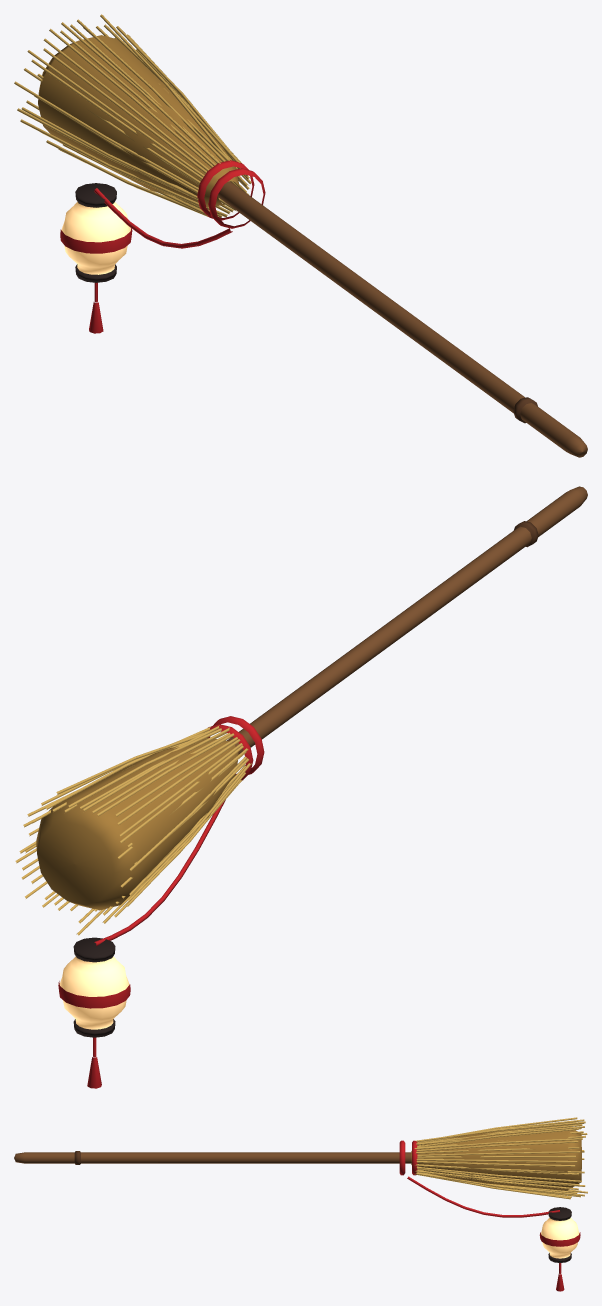
Rendered from prop_broom.glb.
3 renders of one model, top to bottom at view 1: azimuth 30°, elevation 25°; view 2: azimuth 150°, elevation 25°; view 3: azimuth 270°, elevation 25°, orthographic. The views are drawn at different scales.
Parts seen in each view (by area): view 1: prop_broom; view 2: prop_broom; view 3: prop_broom.
Part boxes in pixels (x1,y1,x2,y2): prop_broom: (14, 14, 587, 457); prop_broom: (15, 486, 587, 1088); prop_broom: (14, 1117, 587, 1291).
Size of the model in its own units: 0.2281 by 0.5239 by 1.62.
